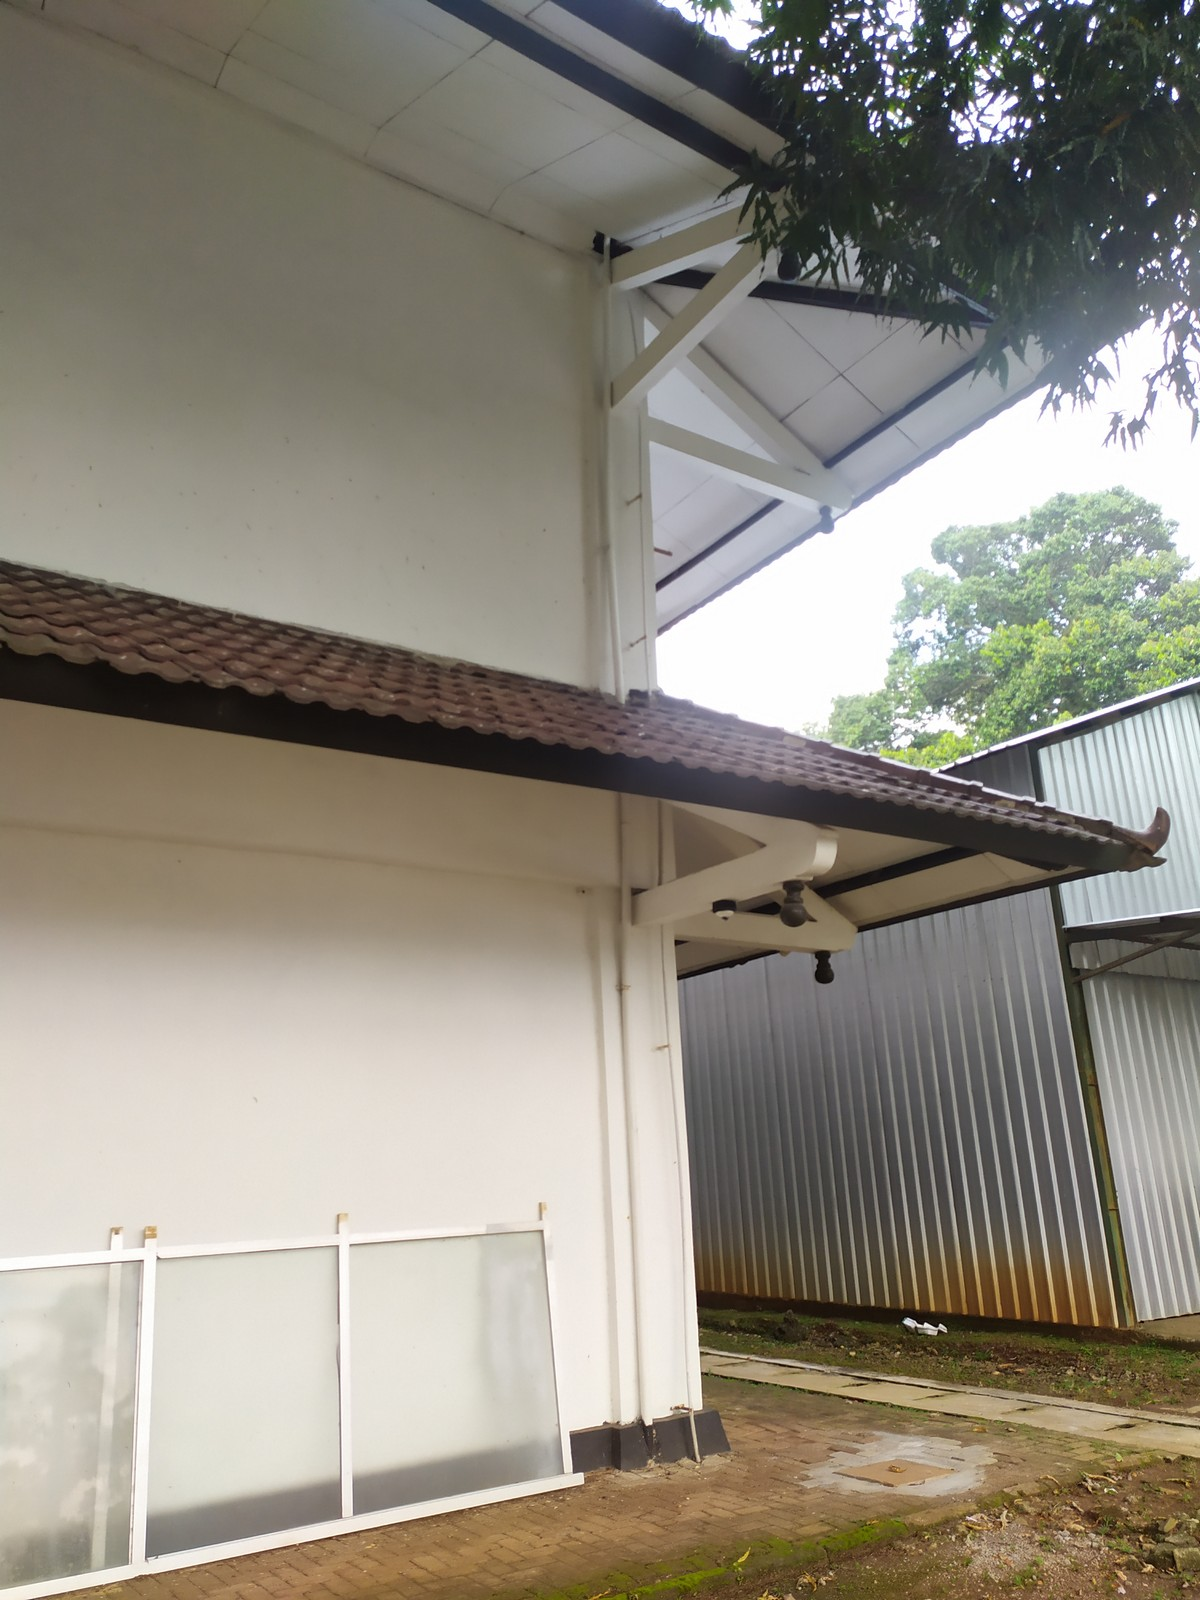concrete beam: (632, 412, 805, 505), (599, 305, 727, 420)
concrete column: (606, 813, 730, 1455), (582, 249, 668, 706)
